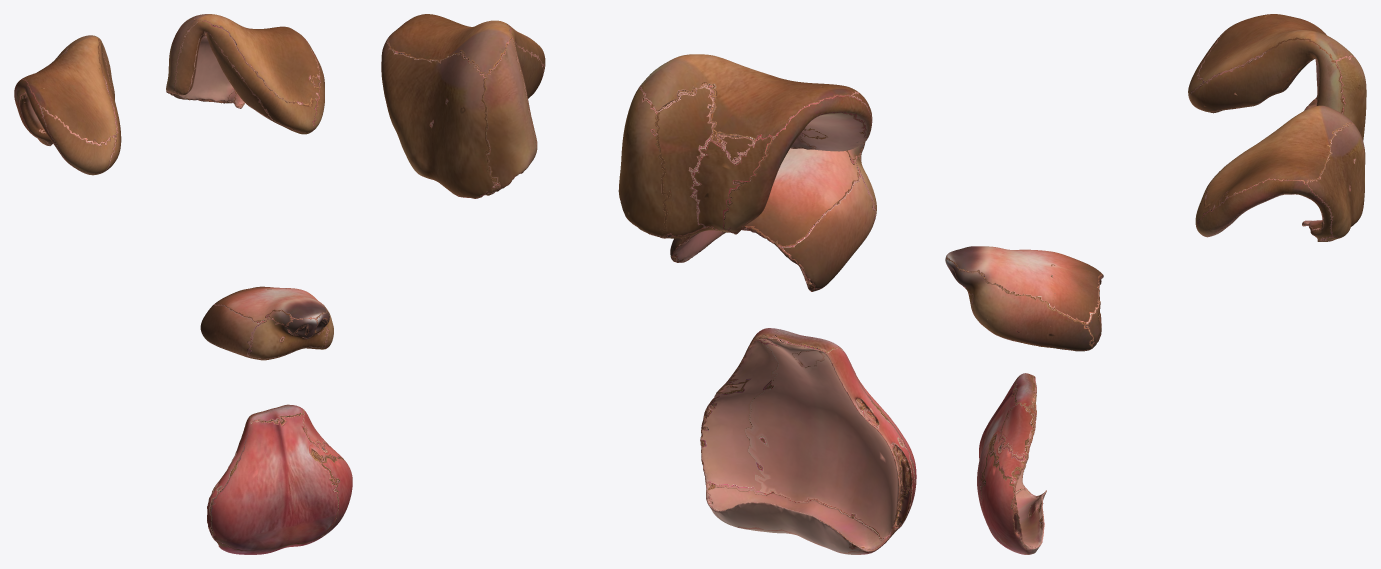
The model's file is Dog_Face_painted.glb.
The picture shows the model from 3 angles, left to right: view 1: azimuth 30°, elevation 25°; view 2: azimuth 150°, elevation 25°; view 3: azimuth 270°, elevation 25°; orthographic projection. The views are drawn at different scales.
Visible parts, largest first — view 1: Ears, Tongue, Body; view 2: Ears, Tongue, Body; view 3: Ears, Body, Tongue.
Boxes of the visible parts, x1=… form: Ears: x1=14, y1=14, x2=324, y2=175; Tongue: x1=207, y1=404, x2=352, y2=554; Body: x1=200, y1=286, x2=333, y2=360; Ears: x1=381, y1=14, x2=872, y2=238; Tongue: x1=700, y1=328, x2=916, y2=554; Body: x1=670, y1=142, x2=876, y2=291; Ears: x1=1188, y1=14, x2=1366, y2=241; Body: x1=945, y1=246, x2=1103, y2=351; Tongue: x1=977, y1=373, x2=1046, y2=554.
Size of the model in its own units: 1.64 by 2.35 by 1.91.
Materials: 1 (1 with a texture image).
